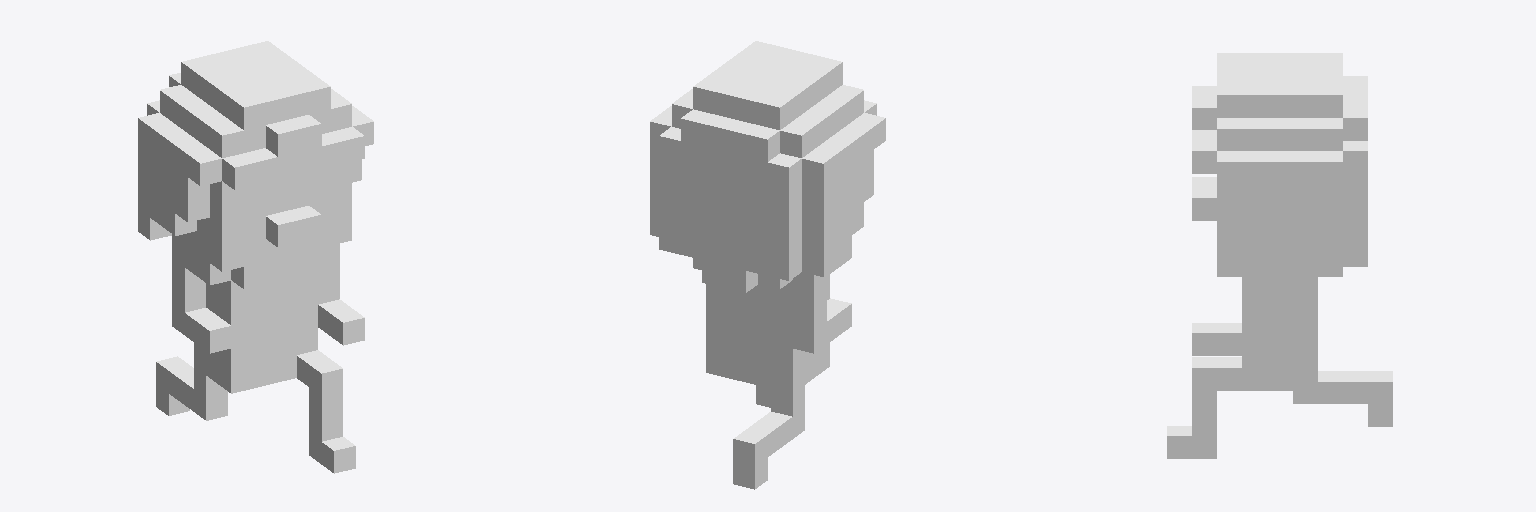
The model's file is Runner-05.obj.
The picture shows the model from 3 angles: view 1: azimuth 30°, elevation 25°; view 2: azimuth 150°, elevation 25°; view 3: azimuth 270°, elevation 25°; orthographic projection.
Bounding box in the file's own units: 8 × 16 × 9.